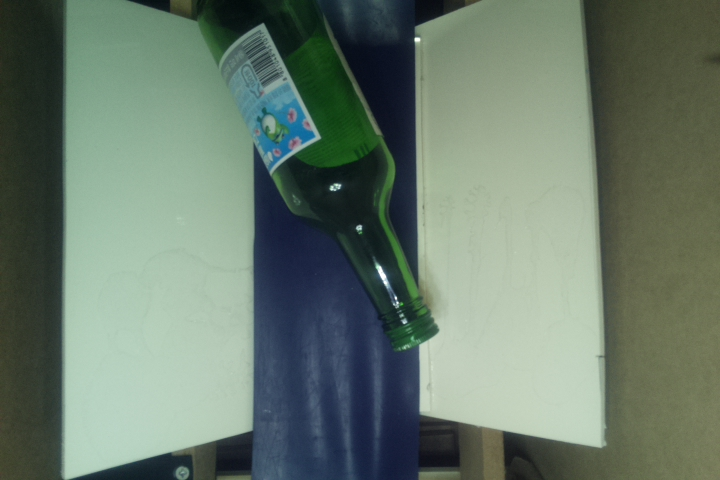soju: (193, 1, 445, 352)
